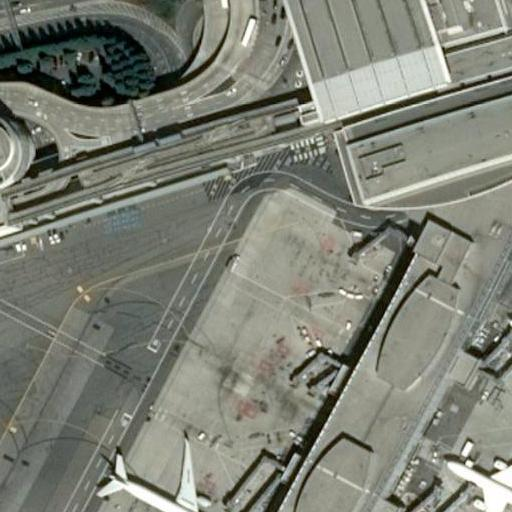Aircraft: (96, 440, 246, 512), (436, 433, 512, 512), (504, 291, 512, 425)
